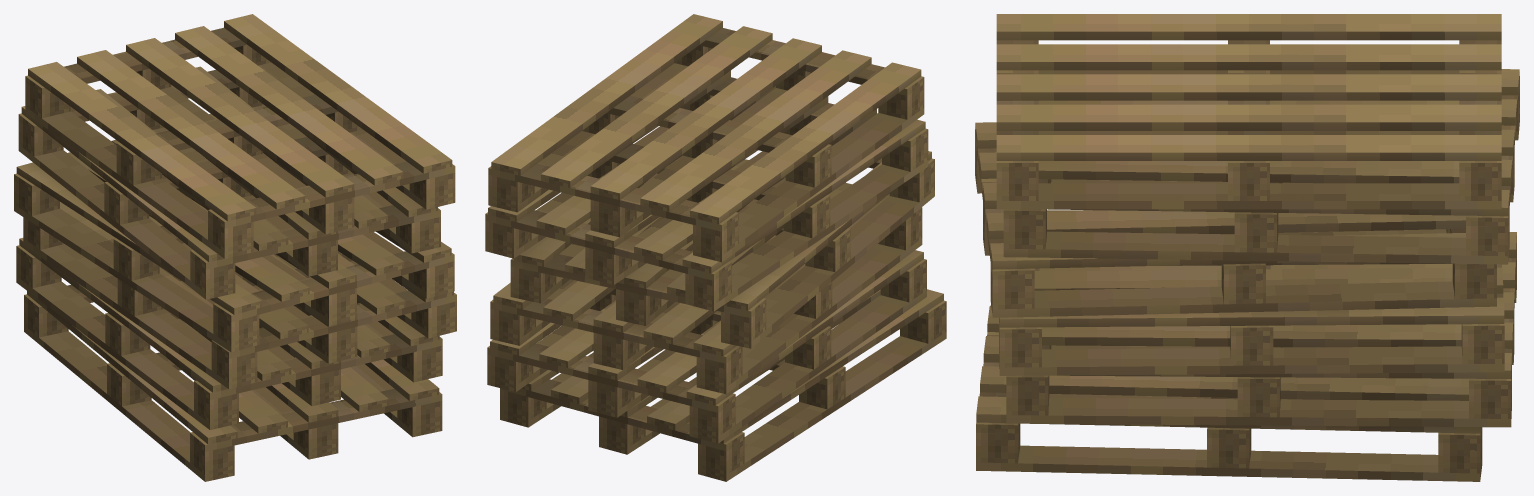
The model's file is pallet_stack.glb.
3 renders of one model, left to right at view 1: azimuth 30°, elevation 25°; view 2: azimuth 150°, elevation 25°; view 3: azimuth 270°, elevation 25°, orthographic. The views are drawn at different scales.
Visible parts, largest first — view 1: pallet_stack; view 2: pallet_stack; view 3: pallet_stack.
Boxes of the visible parts, x1=… form: pallet_stack: x1=14, y1=14, x2=456, y2=481; pallet_stack: x1=485, y1=14, x2=946, y2=481; pallet_stack: x1=975, y1=14, x2=1519, y2=481.
Bounding box in the file's own units: 0.8828 × 0.864 × 1.29.
Materials: 1 (1 with a texture image).
